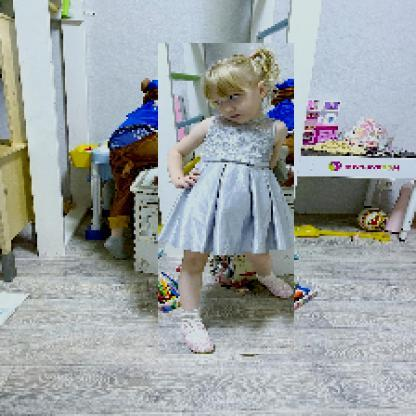child: (159, 45, 296, 357)
